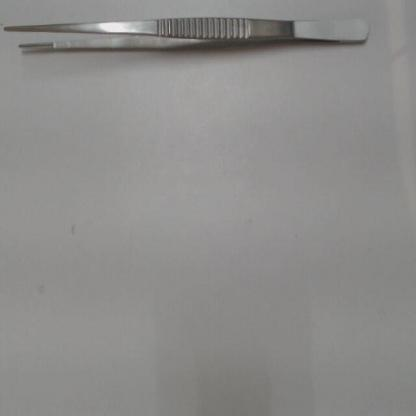DeBakey Dissector: (3, 0, 398, 86)
